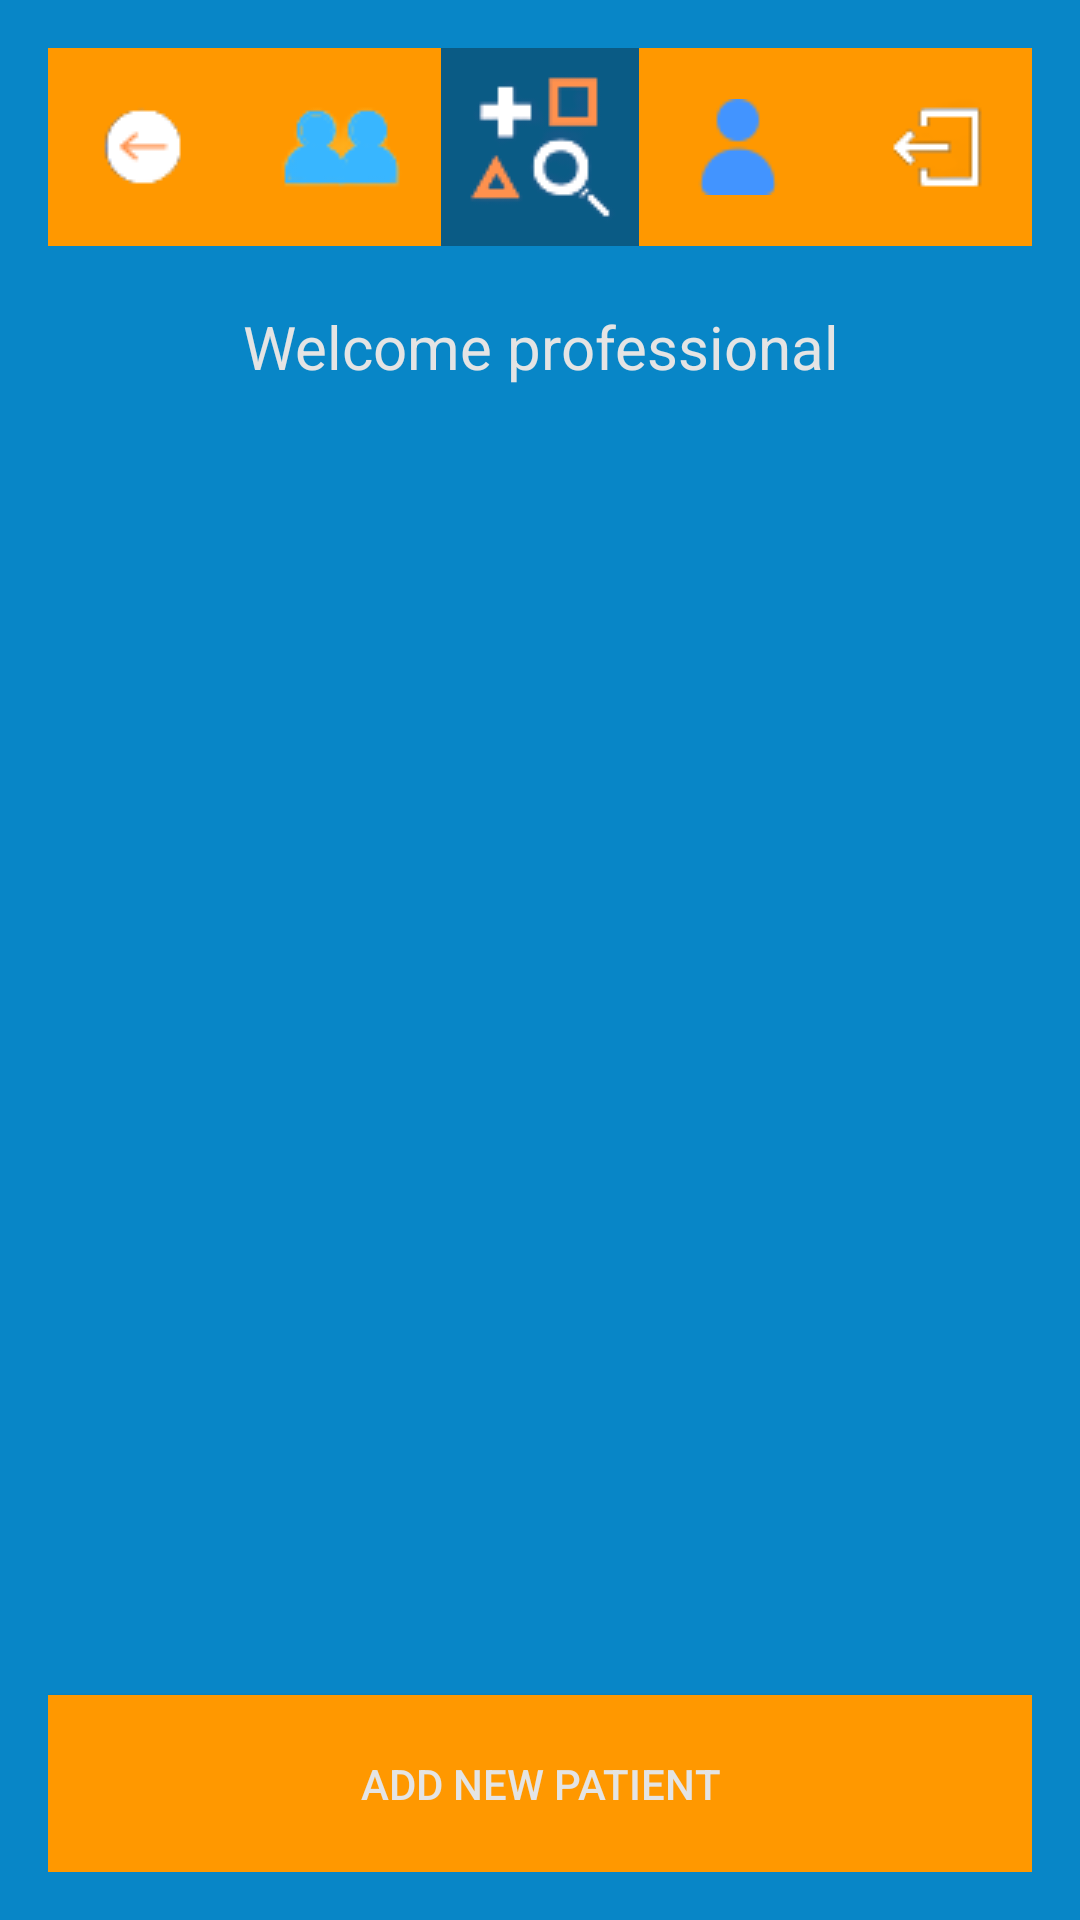

Icons on this 1080×1920 Android screen, each with the point to tap as [x,y]:
button profile description: [738,147]
profiles button: [342,147]
